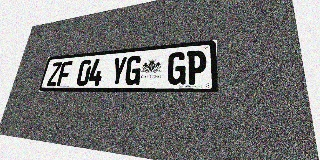0: (75, 59, 92, 86)
4: (87, 58, 105, 86)
F: (56, 61, 73, 86)
G: (167, 51, 187, 85), (124, 55, 143, 85)
P: (186, 50, 206, 85)
Y: (109, 56, 128, 85)
Z: (46, 62, 62, 86)
